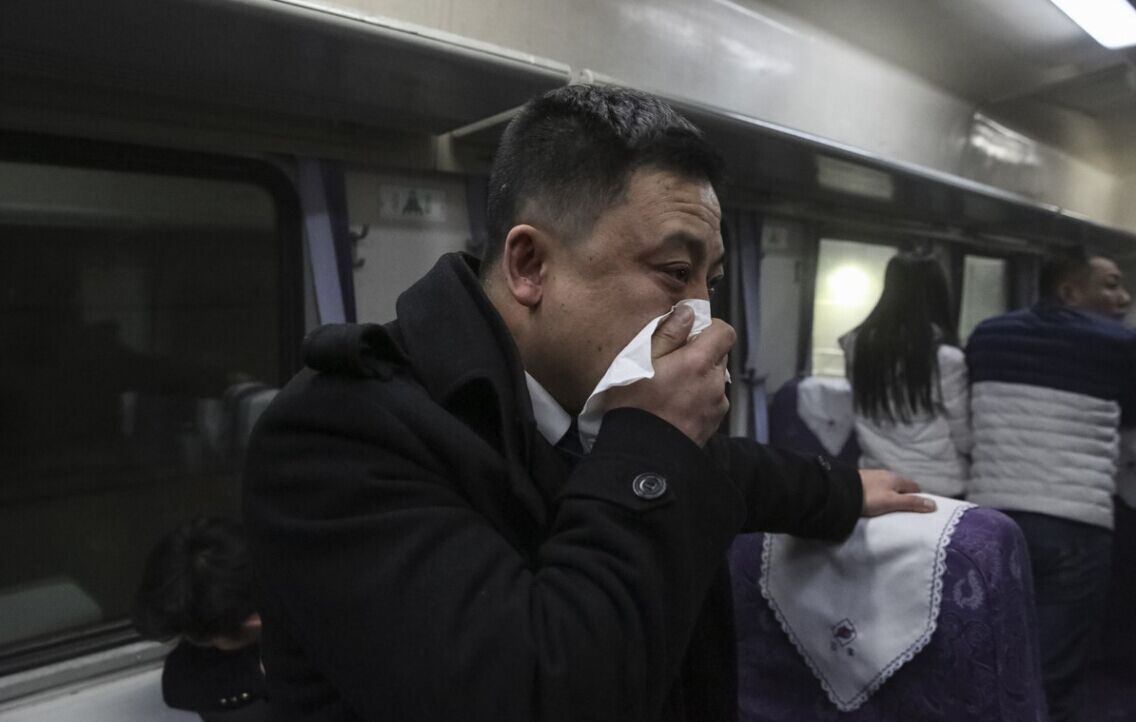face: (548, 167, 729, 410)
face_mask: (1074, 263, 1127, 317)
